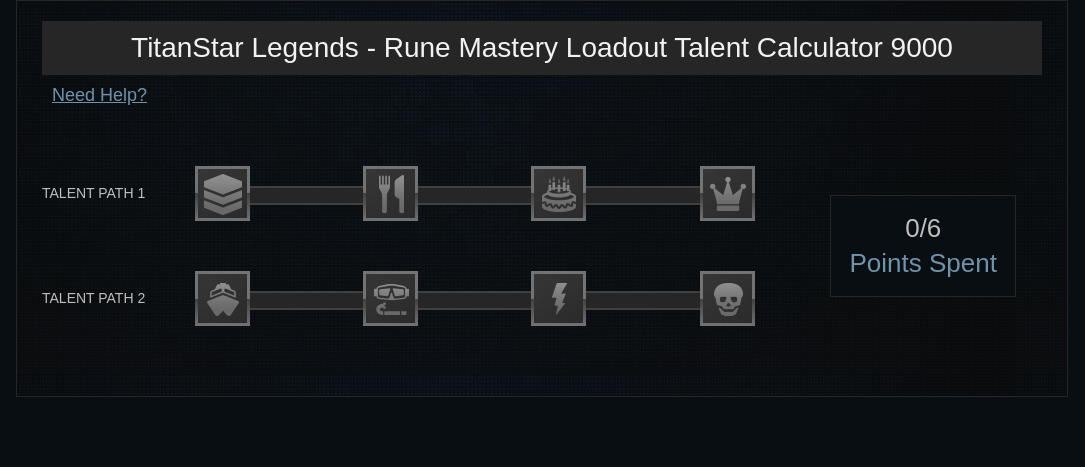
Test: <App /> shows message when all points are spent
The width and height of the screenshot is (1085, 467).
Expected: the text "congratulations" is not shown
Use all points
Click the button named "chevron" at x=223, y=193, box top-left (195, 166), bottom-right (250, 221)
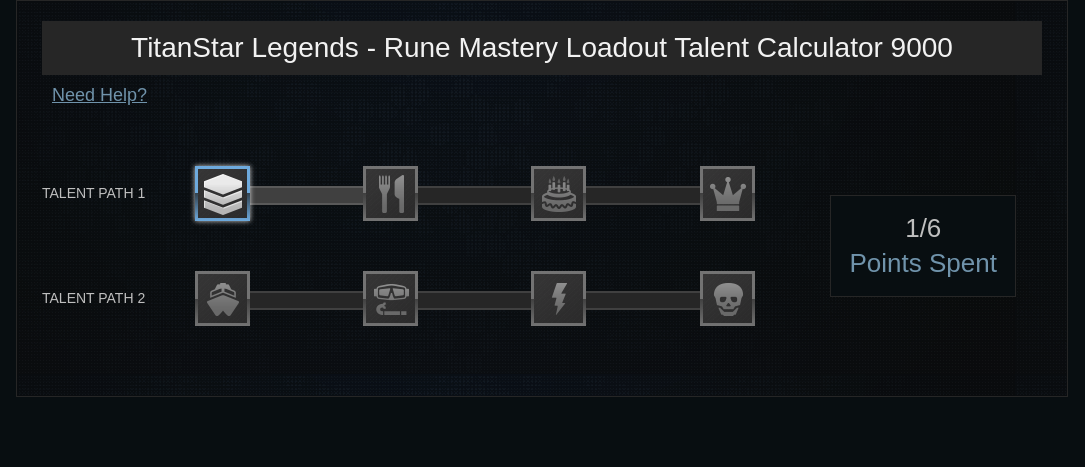
Click the button named "silverware" at x=391, y=193, box top-left (363, 166), bottom-right (418, 221)
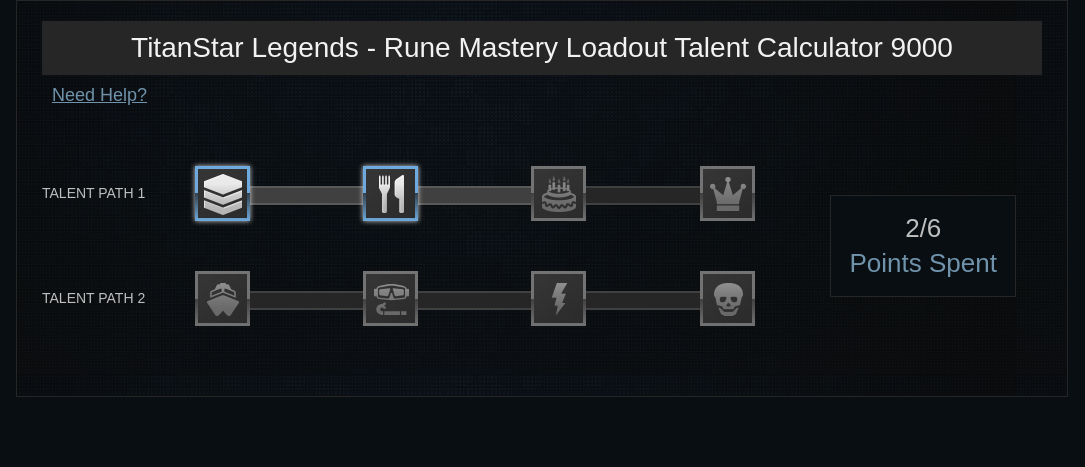
Click the button named "cake" at x=559, y=193, box top-left (531, 166), bottom-right (586, 221)
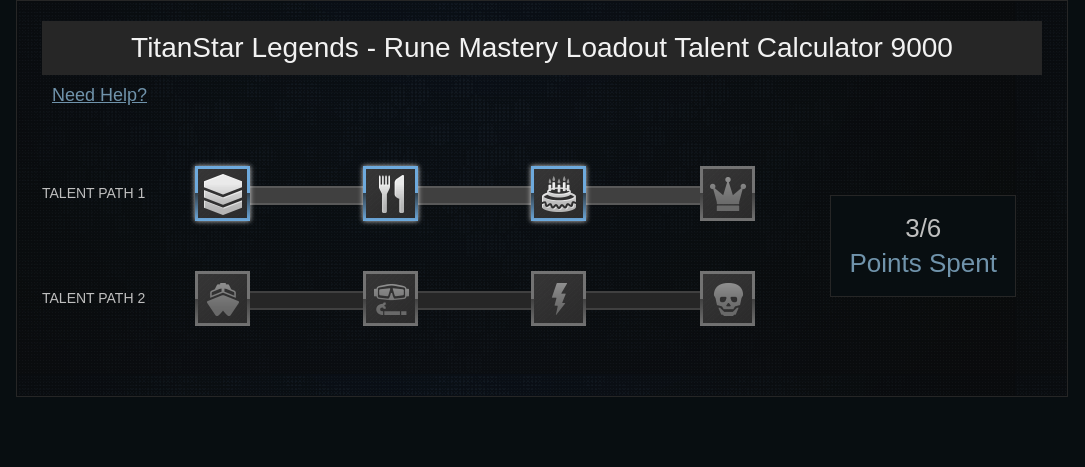
Click the button named "crown" at x=727, y=193, box top-left (700, 166), bottom-right (754, 221)
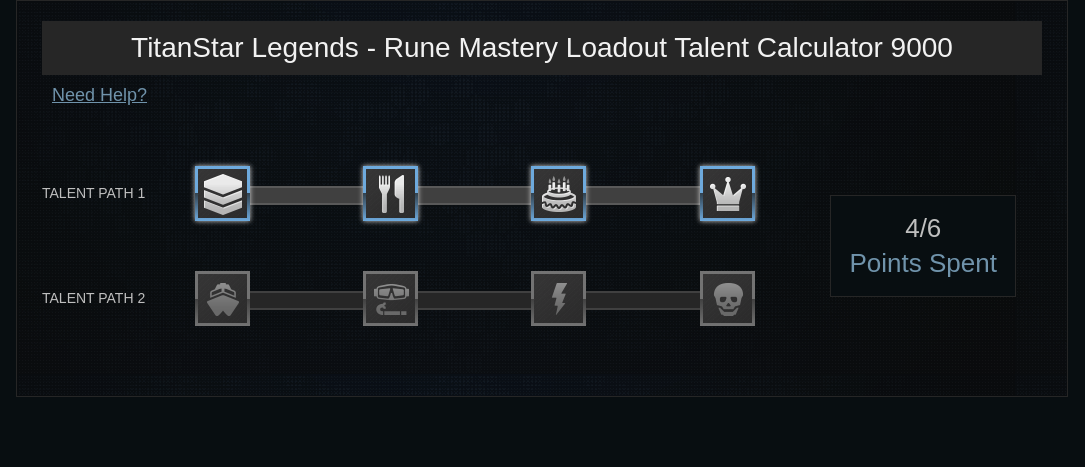
Click the button named "ship" at x=223, y=298, box top-left (195, 271), bottom-right (250, 326)
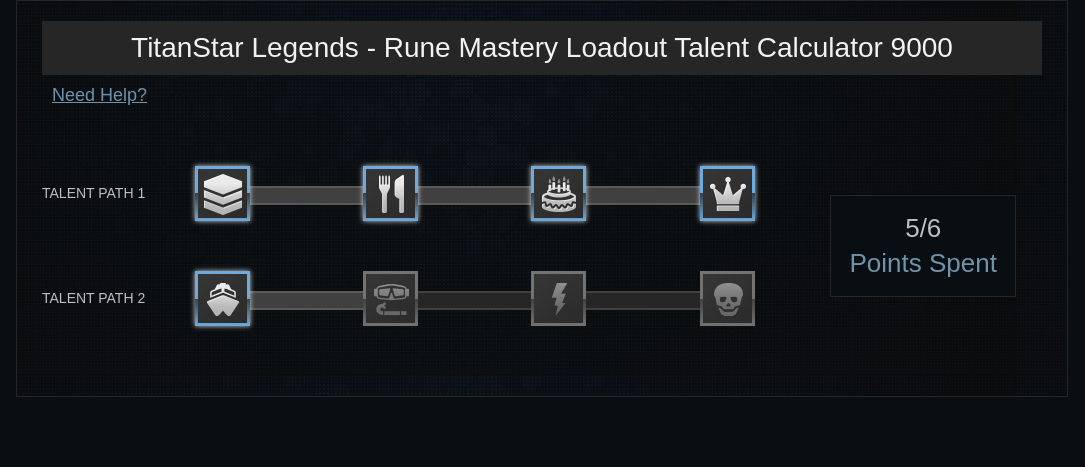
Click the button named "snorkel" at x=391, y=298, box top-left (363, 271), bottom-right (418, 326)
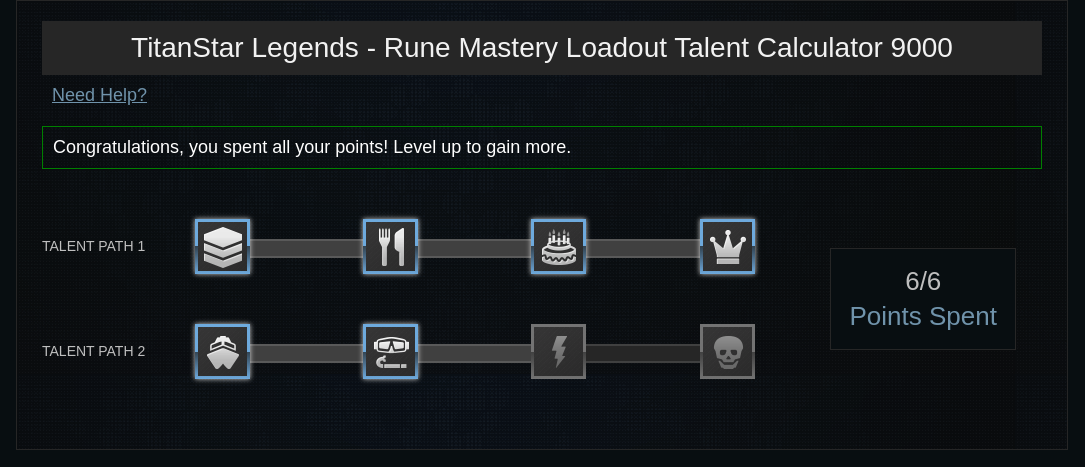
Now the text "Congratulations" is shown, box top-left (53, 137), bottom-right (571, 157)
